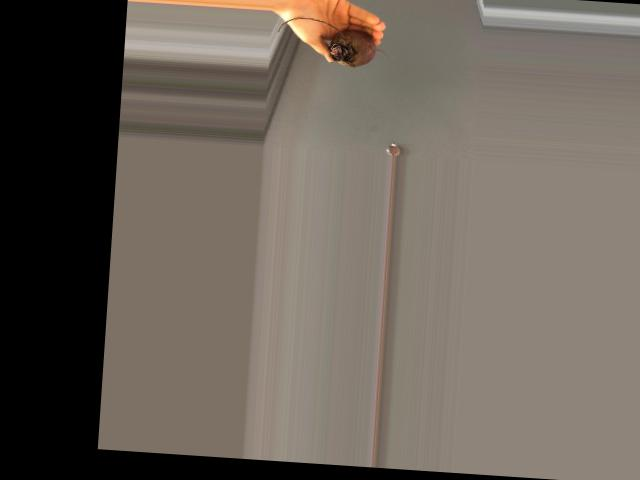beet: (277, 15, 390, 68)
